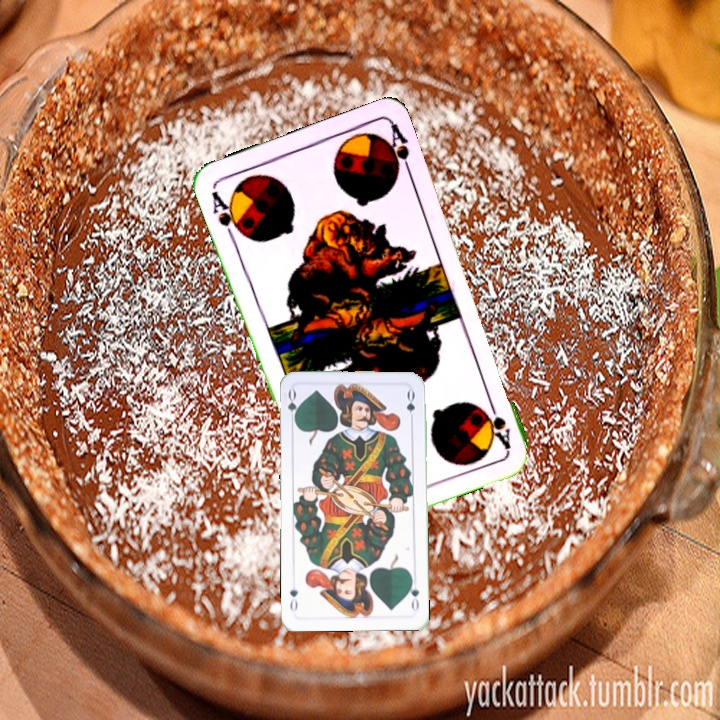GO: (284, 386, 301, 427), (405, 573, 422, 613)
SA: (207, 186, 246, 243), (478, 394, 513, 451)
